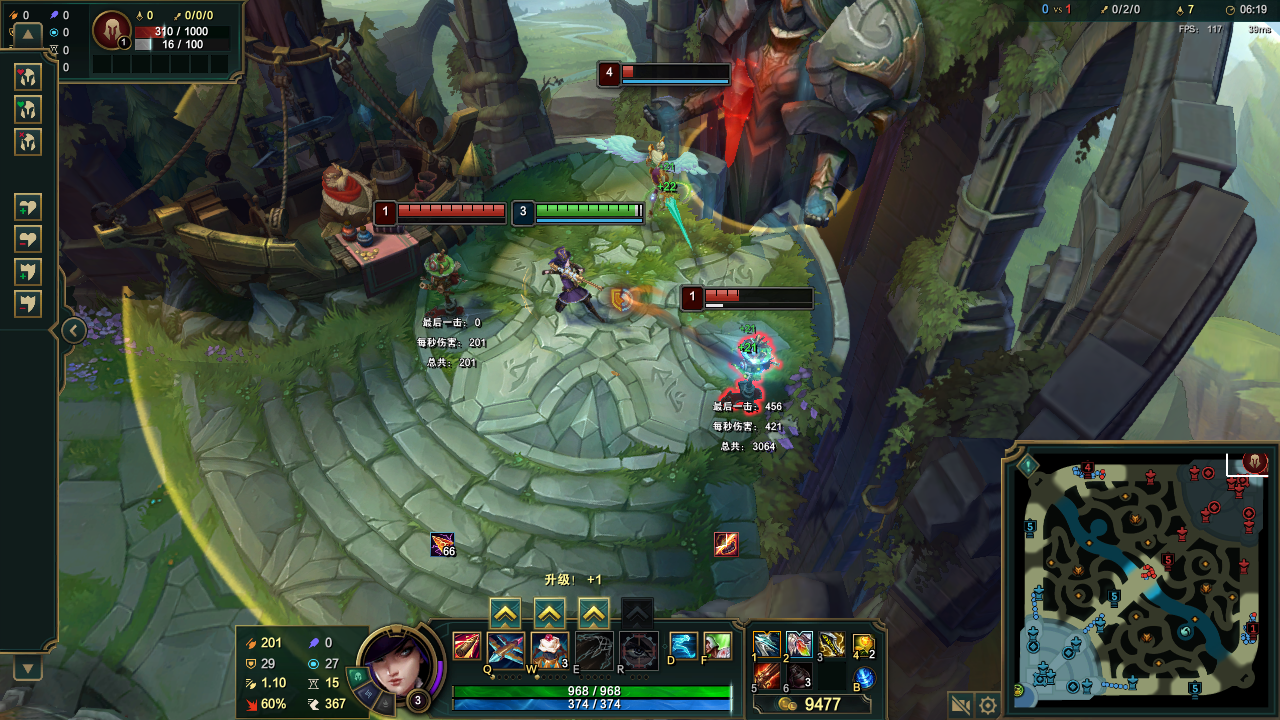DFYX: (704, 284, 815, 300), (618, 64, 738, 78), (399, 201, 505, 216)
